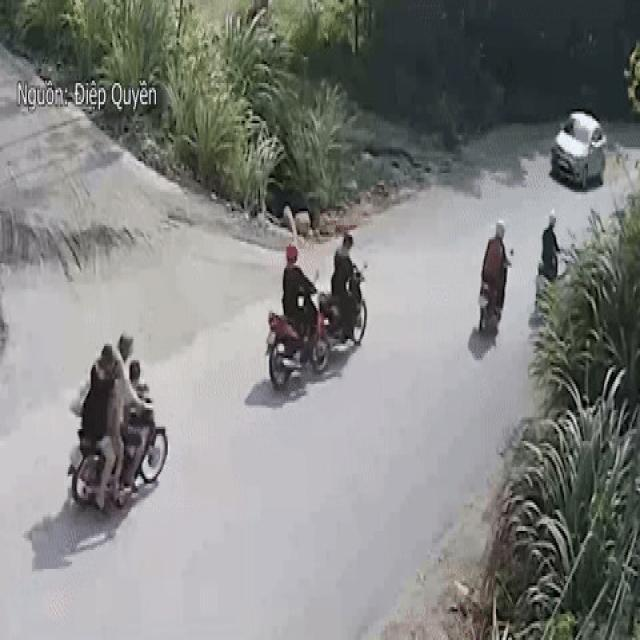normal: (51, 319, 177, 526), (267, 213, 381, 403), (454, 190, 519, 359)
